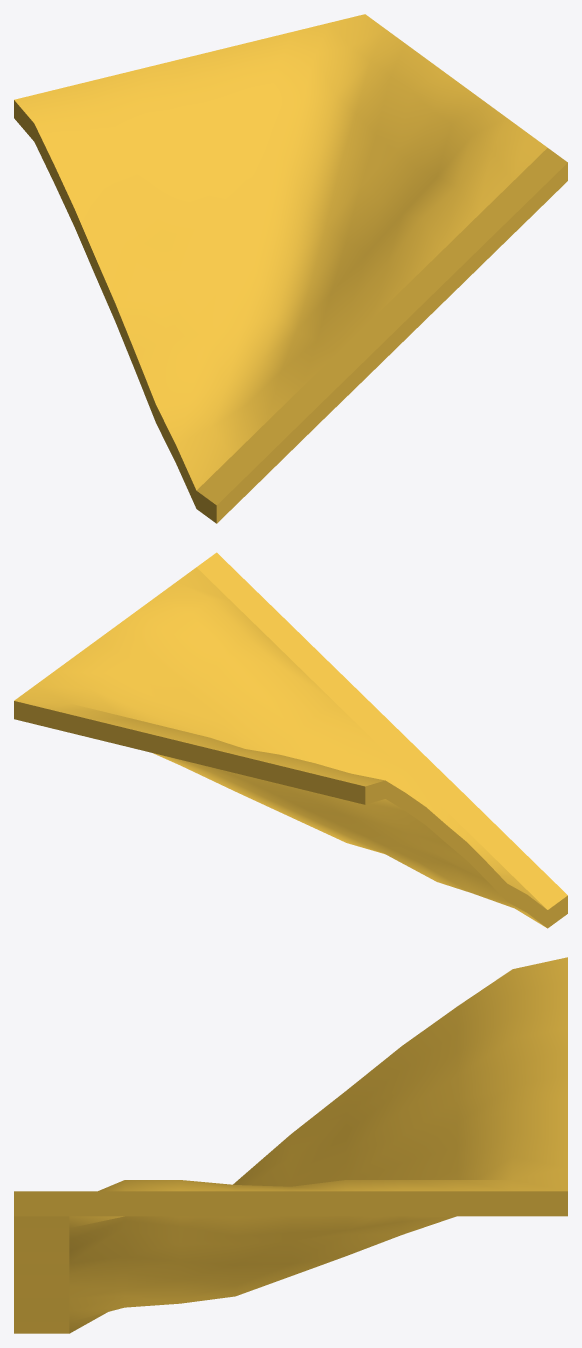
File: Steil - Mitte -  Ecke Invertiert a - x.fbx
The picture shows the model from 3 angles, top to bottom: view 1: azimuth 30°, elevation 25°; view 2: azimuth 150°, elevation 25°; view 3: azimuth 270°, elevation 25°; orthographic projection. The views are drawn at different scales.
Parts seen in each view (by area): view 1: Steil - Mitte - Ecke Invertiert a - x; view 2: Steil - Mitte - Ecke Invertiert a - x; view 3: Steil - Mitte - Ecke Invertiert a - x.
Boxes of the visible parts, bbox=[...] form: Steil - Mitte - Ecke Invertiert a - x: bbox=[14, 14, 567, 523]; Steil - Mitte - Ecke Invertiert a - x: bbox=[14, 552, 567, 928]; Steil - Mitte - Ecke Invertiert a - x: bbox=[14, 957, 567, 1333].
Size of the model in its own units: 394 by 295 by 394.
